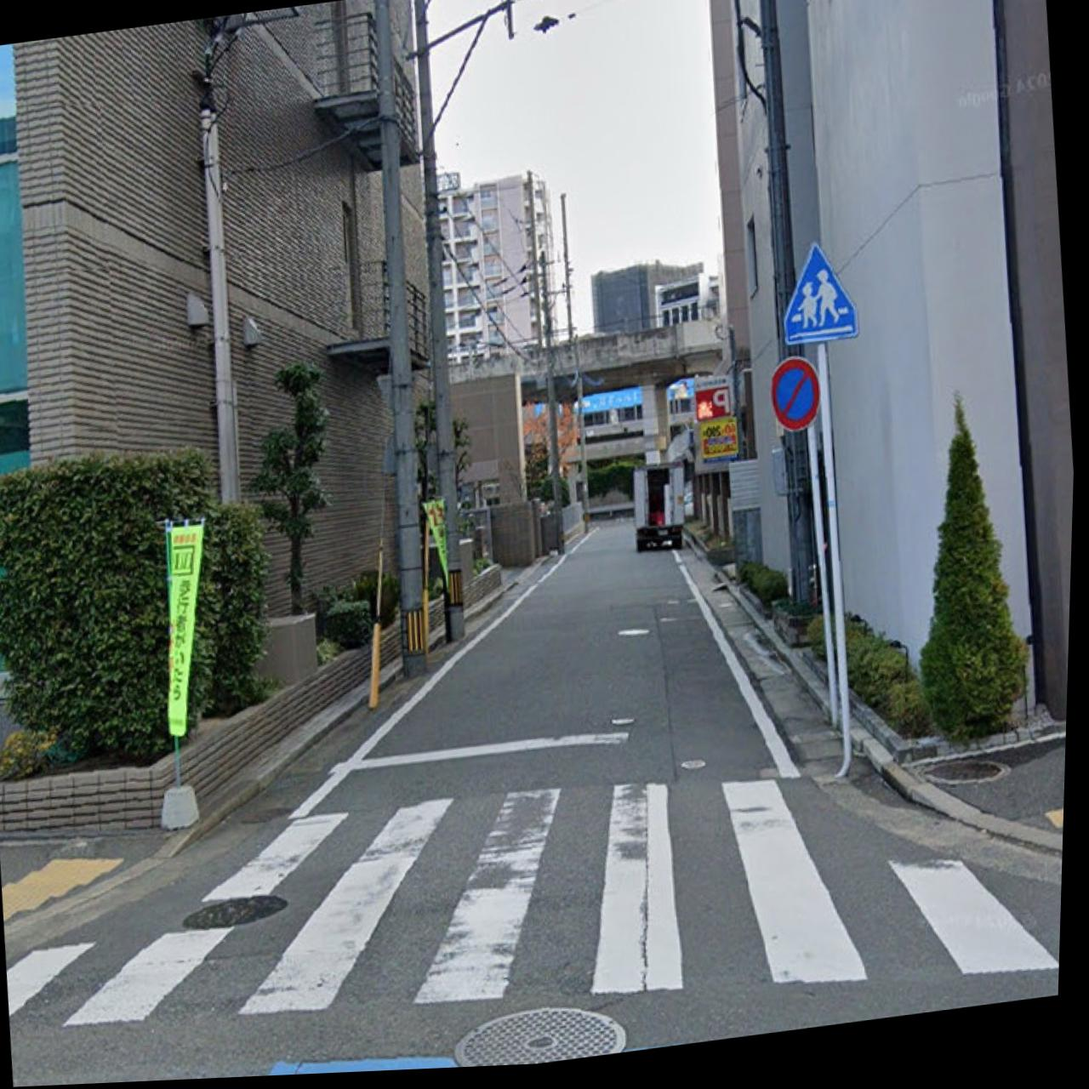cone: (429, 187, 1089, 493)
